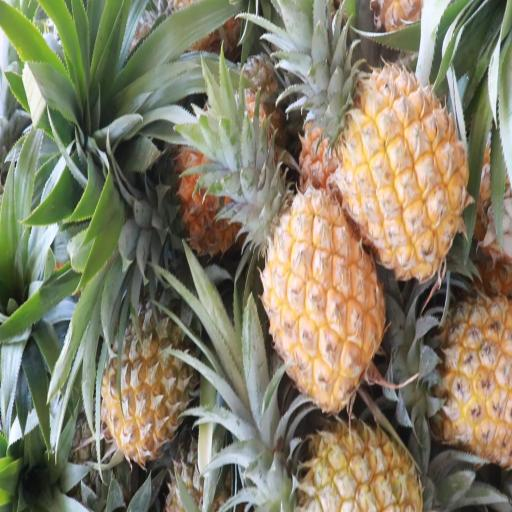Pineapple - v8 v1: (320, 64, 472, 279), (250, 191, 384, 412), (386, 290, 512, 452), (99, 274, 189, 463)
